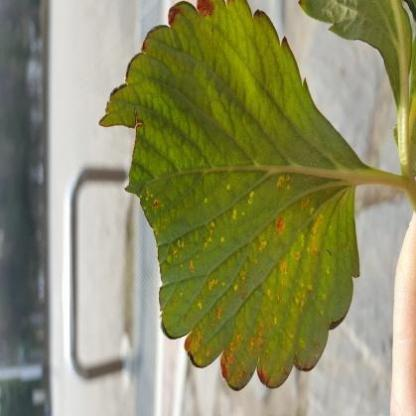Strawberry_Angular_LeafSpot: (136, 169, 352, 394)
